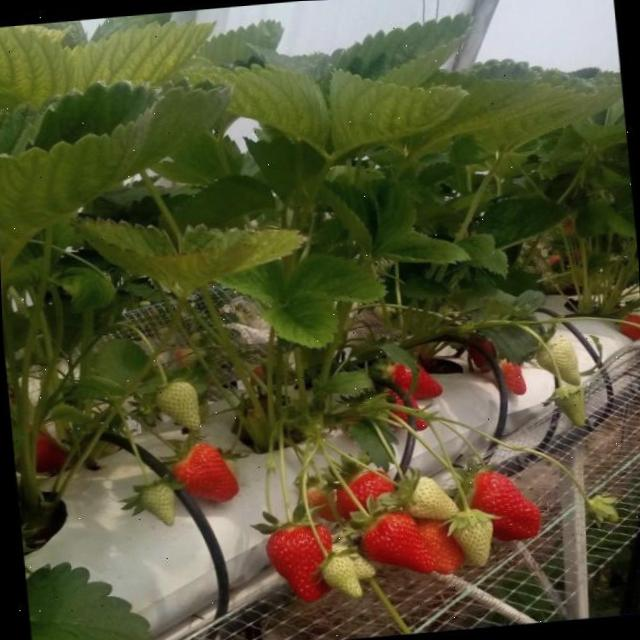ripe: (464, 470, 546, 546), (262, 523, 334, 605), (358, 508, 430, 580), (331, 470, 392, 524), (384, 354, 442, 408), (412, 522, 458, 580), (27, 422, 72, 477), (491, 354, 534, 398), (381, 401, 425, 436), (614, 314, 640, 344)
